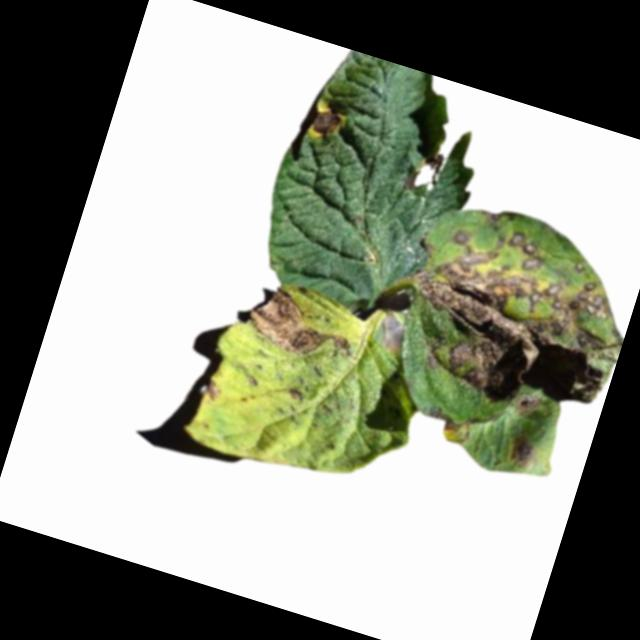Early_blight: (388, 207, 640, 430), (241, 282, 363, 372), (403, 144, 445, 199), (424, 406, 475, 445), (308, 102, 346, 144), (511, 389, 545, 421), (506, 436, 539, 468), (202, 380, 222, 403), (285, 385, 304, 403)
